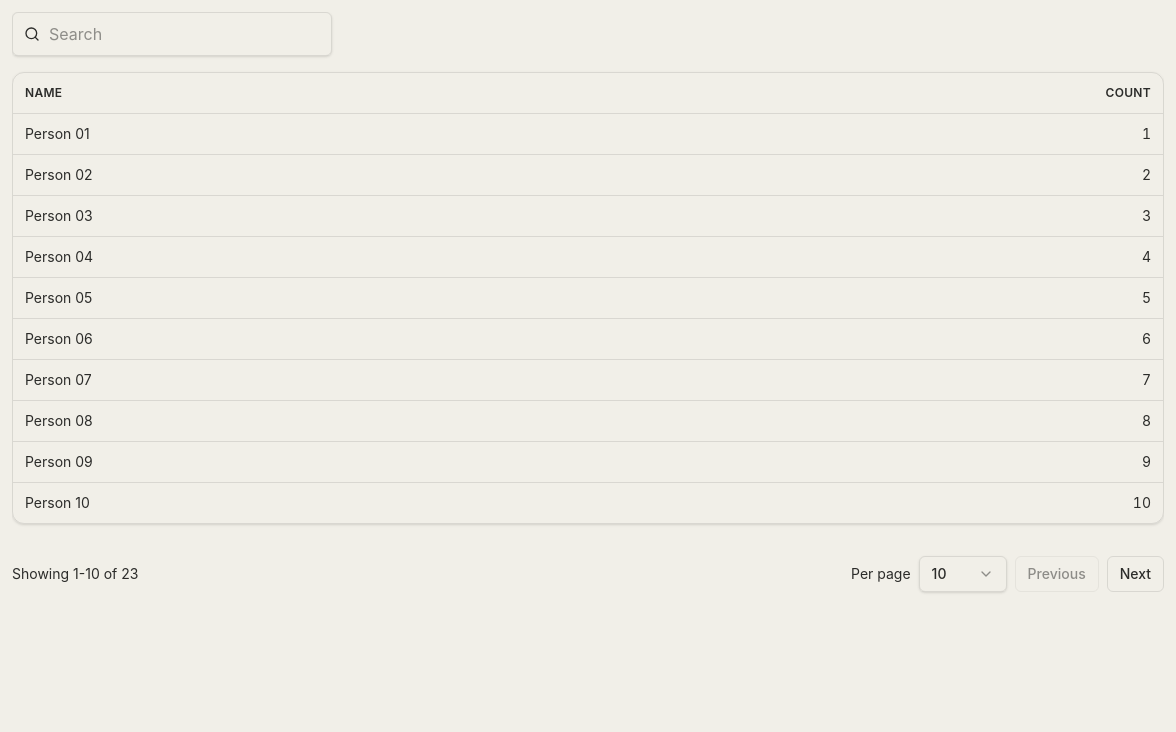
Test: DataTable pagination › windows the rows and pages forward / back with prev / next
Expected: the text "Person 01" is shown, [13,113,669,154]
Expected: the text "Person 11" is not shown
Click the button "Next" at (1135,574), box [1107,556,1164,592]
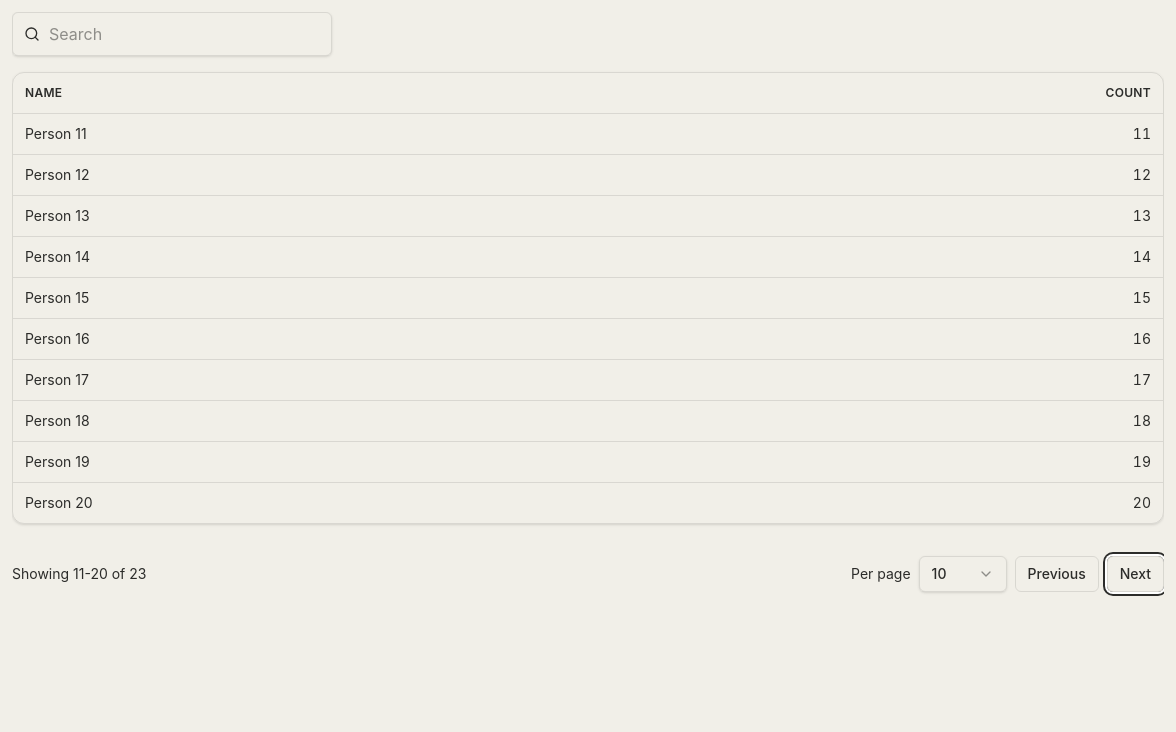
Now the text "Showing 11-20 of 23" is shown, box [12,564,146,584]
Now the text "Person 11" is shown, box [13,113,667,154]
Now the text "Person 01" is gone
Click the button "Next" at (1135,574), box [1107,556,1164,592]
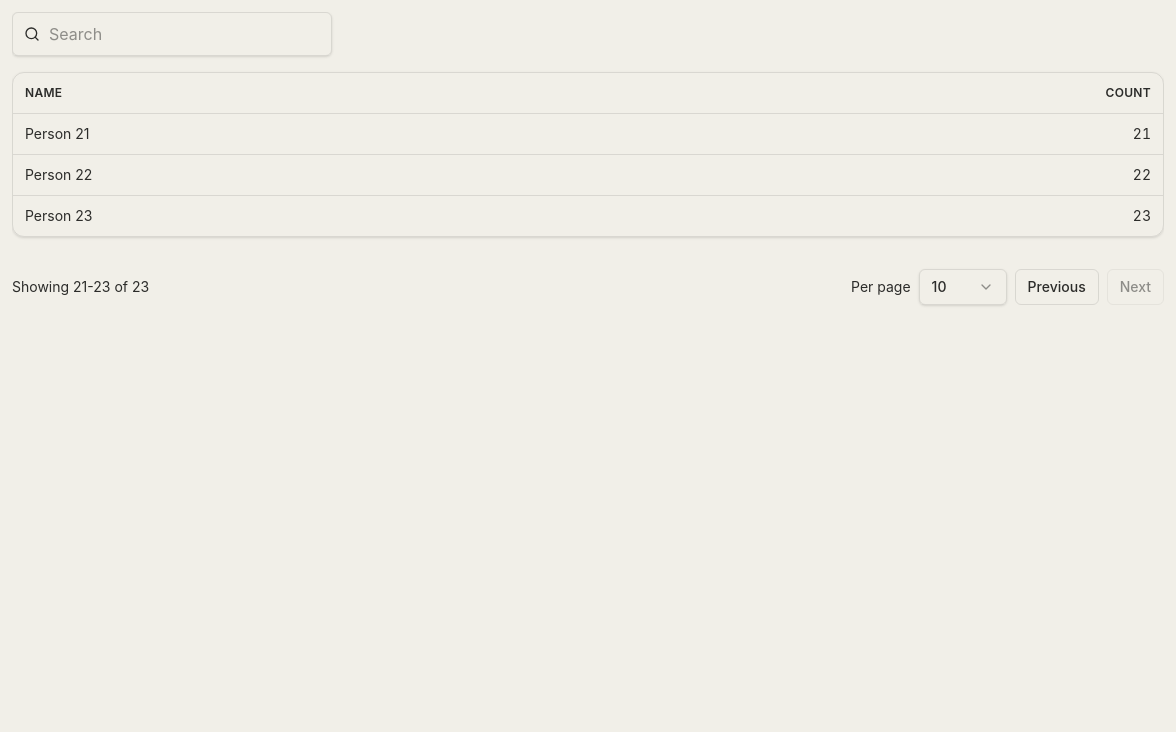
Now the text "Showing 21-23 of 23" is shown, box [12,276,149,296]
Click the button "Previous" at (1057,286), box [1015,268,1099,304]
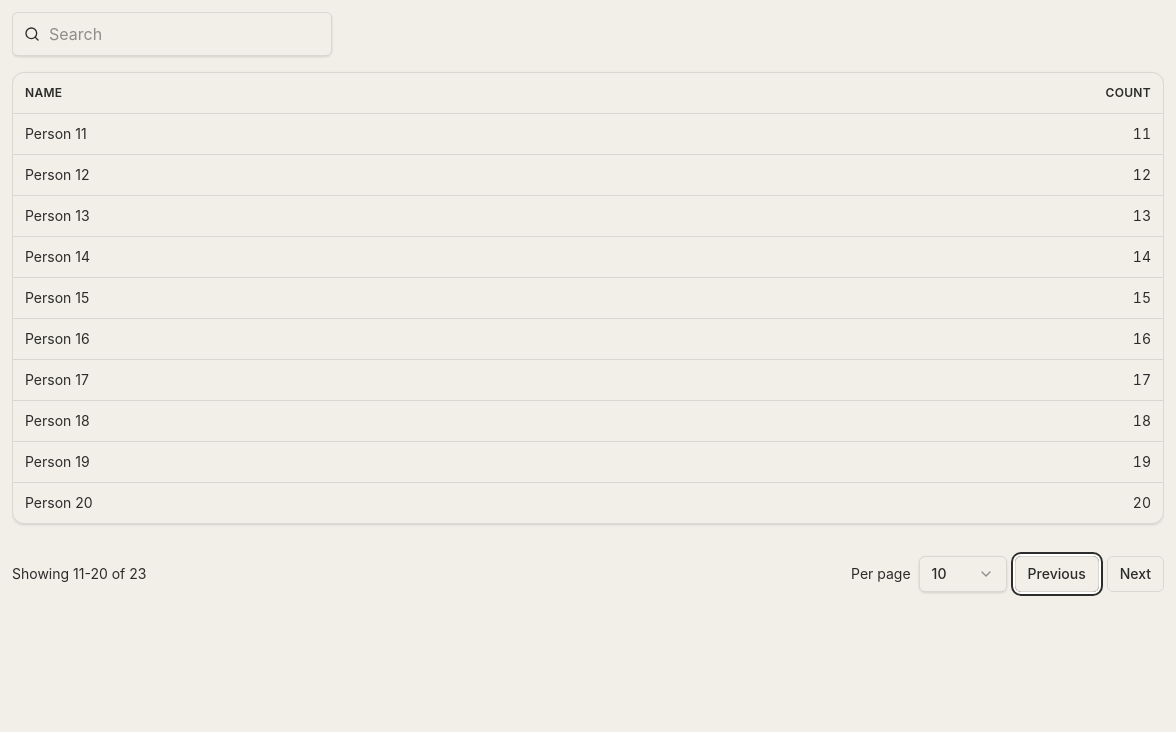
Now the text "Showing 11-20 of 23" is shown, box [12,564,146,584]
